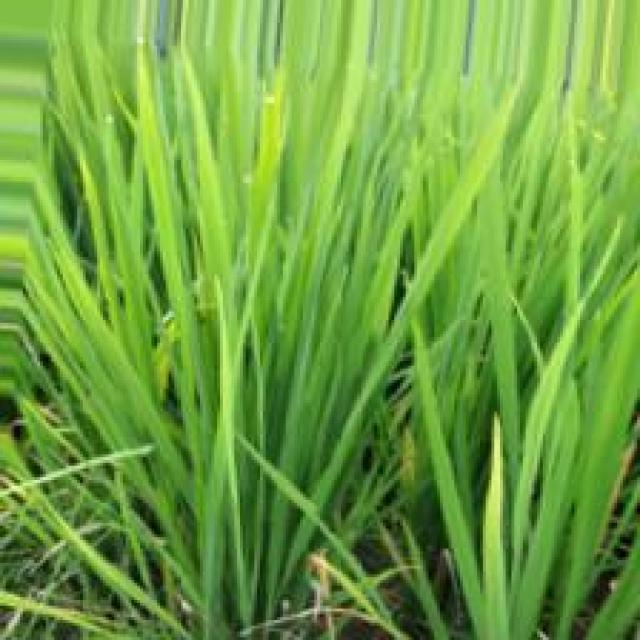HealthyLeaf: (584, 380, 626, 511), (485, 272, 511, 353), (442, 493, 470, 550)
